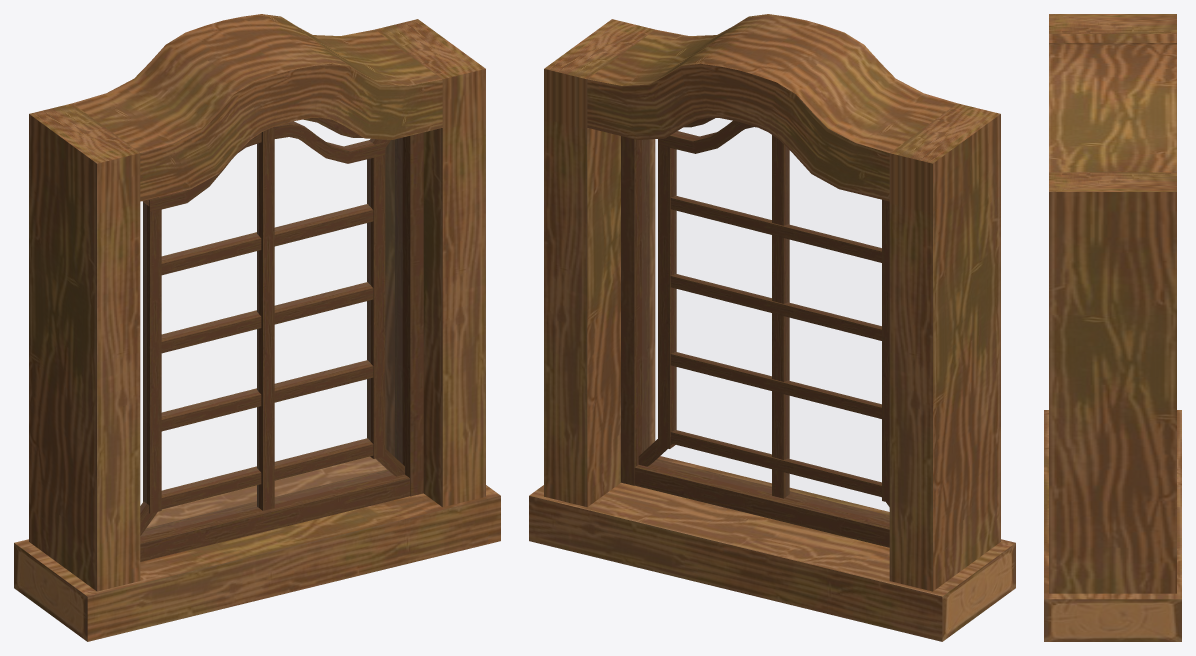
The model's file is Window_Wide_Flat2.gltf.
3 views of the same model, side by side, from view 1: azimuth 30°, elevation 25°; view 2: azimuth 150°, elevation 25°; view 3: azimuth 270°, elevation 25° (orthographic). The views are drawn at different scales.
Visible parts, largest first — view 1: Window_Wide_Flat2; view 2: Window_Wide_Flat2; view 3: Window_Wide_Flat2.
Part boxes in pixels (x1,y1,x2,y2): Window_Wide_Flat2: (14, 14, 500, 641); Window_Wide_Flat2: (529, 14, 1015, 641); Window_Wide_Flat2: (1044, 14, 1181, 641).
Bounding box in the file's own units: 1.34 × 1.61 × 0.4135.
Materials: 2 (1 with a texture image).
